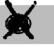not correct: (1, 0, 38, 41)
